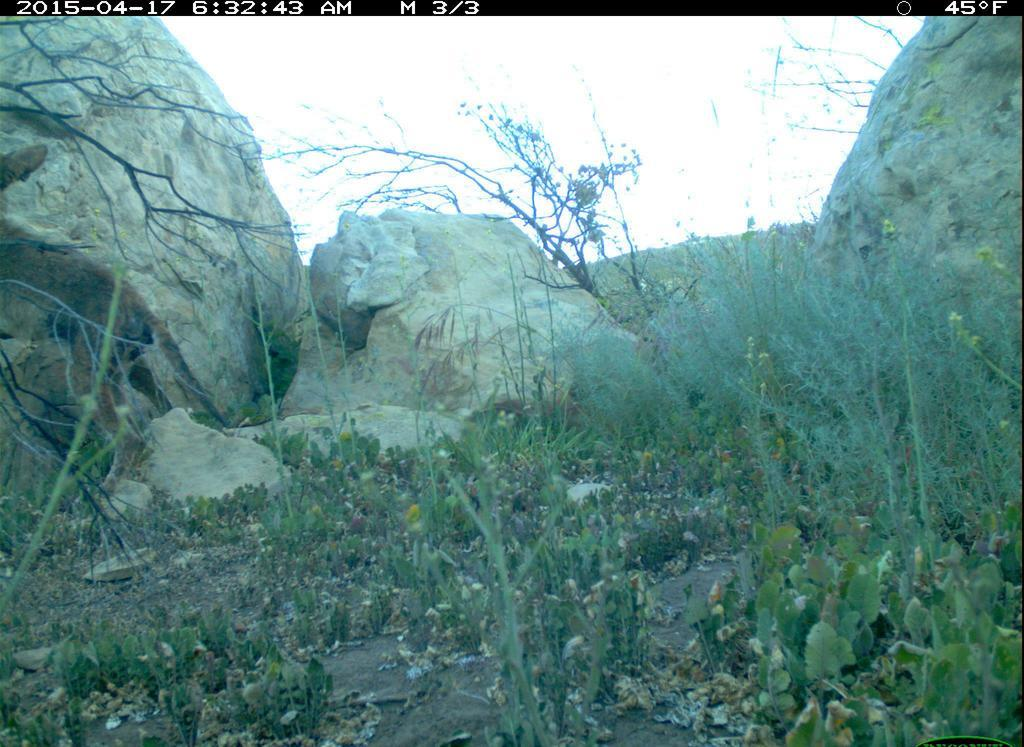coyote: (1, 134, 231, 508)
